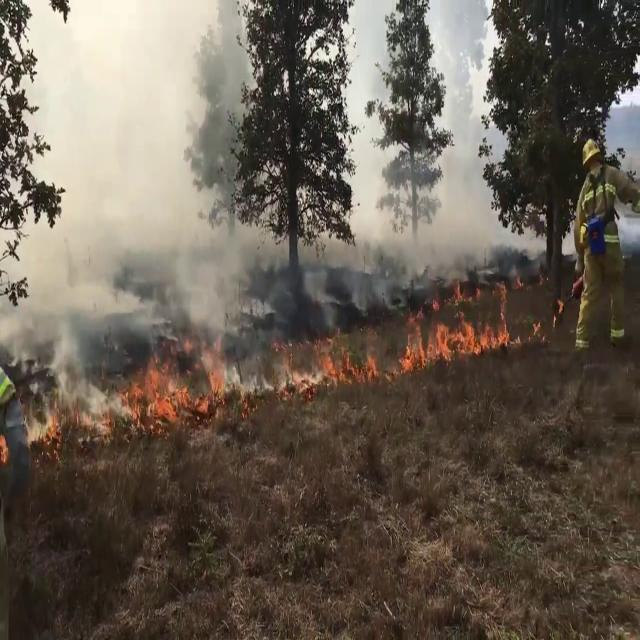Fire: (116, 326, 242, 424), (398, 285, 520, 367), (268, 327, 354, 395)
Smoke: (0, 1, 294, 372), (314, 61, 504, 313)
